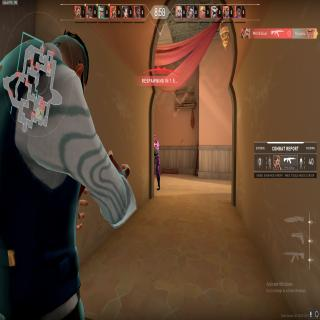ENEMY-BODY: (154, 135, 160, 191)
ENEMY-HEAD: (154, 135, 156, 142)
